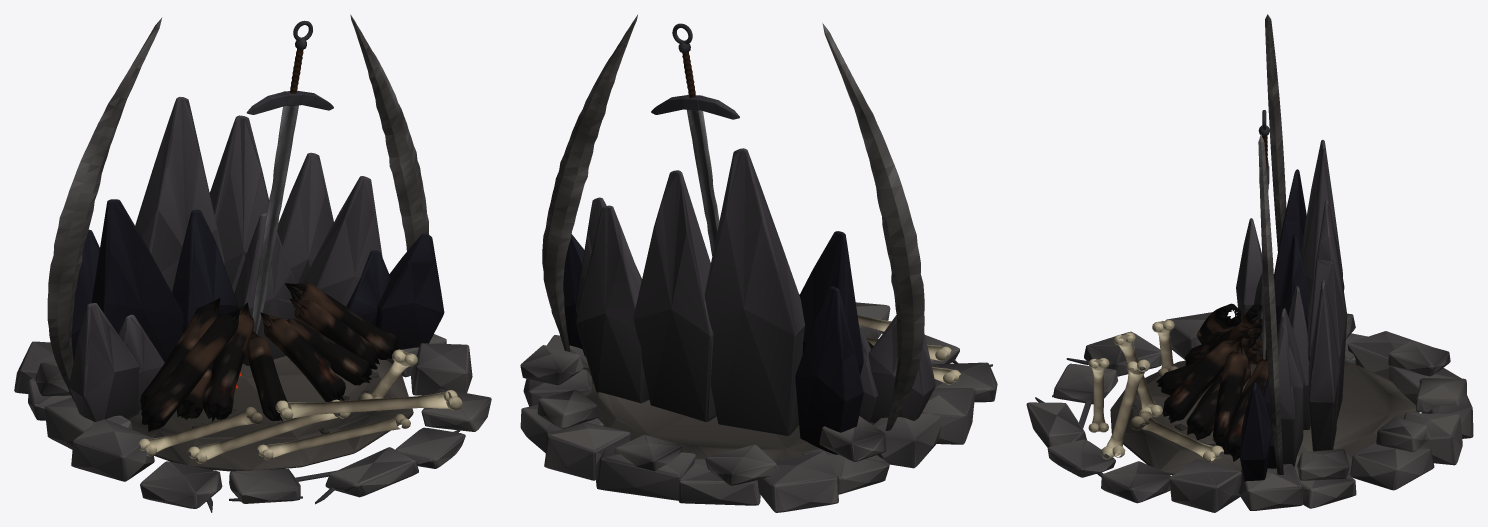
Rendered from apramaya_bonfire_v2.glb.
3 renders of one model, left to right at view 1: azimuth 30°, elevation 25°; view 2: azimuth 150°, elevation 25°; view 3: azimuth 270°, elevation 25°, orthographic. The views are drawn at different scales.
Parts seen in each view (by area): view 1: Bonfire_Base_AshBed, FlameSilhouette_Left, StoneShard_01, StoneShard_02, StoneShard_06, StoneShard_03, StoneShard_07, StoneShard_05, FlameSilhouette_Right, StoneShard_12, StoneShard_04, CharredLog_09 (+30 smaller); view 2: StoneShard_01, StoneShard_03, StoneShard_12, FlameSilhouette_Left, StoneShard_11, FlameSilhouette_Right, Bonfire_Base_AshBed, Bonfire_Base_Stone_11, StoneShard_02, StoneShard_06, Bonfire_Base_Stone_13, Bonfire_Base_Stone_14 (+18 smaller); view 3: Bonfire_Base_AshBed, StoneShard_12, FlameSilhouette_Right, StoneShard_03, StoneShard_05, Bonfire_Base_Stone_02, Bonfire_Base_Stone_15, FlameSilhouette_Left, StoneShard_01, StoneShard_07, CharredLog_07, Bonfire_Base_Stone_01 (+30 smaller).
Part boxes in pixels (box(x1,y1,x2,y2)): Bonfire_Base_AshBed: box(128, 356, 413, 471); FlameSilhouette_Left: box(47, 17, 162, 401); StoneShard_01: box(135, 97, 224, 292); StoneShard_02: box(91, 199, 183, 362); StoneShard_06: box(69, 303, 139, 421); StoneShard_03: box(209, 115, 268, 293); StoneShard_07: box(375, 234, 444, 349); StoneShard_05: box(304, 176, 382, 325); FlameSilhouette_Right: box(350, 14, 429, 251); StoneShard_12: box(277, 152, 333, 324); StoneShard_04: box(172, 209, 237, 333); CharredLog_09: box(141, 307, 240, 432); StoneShard_01: box(704, 148, 804, 435); StoneShard_03: box(633, 170, 716, 421); StoneShard_12: box(576, 205, 649, 403); FlameSilhouette_Left: box(822, 23, 924, 430); StoneShard_11: box(795, 286, 863, 454); FlameSilhouette_Right: box(542, 14, 637, 351); Bonfire_Base_AshBed: box(586, 377, 874, 460); Bonfire_Base_Stone_11: box(757, 451, 838, 512); StoneShard_02: box(799, 231, 863, 375); StoneShard_06: box(868, 315, 935, 423); Bonfire_Base_Stone_13: box(595, 446, 695, 500); Bonfire_Base_Stone_14: box(544, 422, 630, 480); Bonfire_Base_AshBed: box(1110, 351, 1419, 475); StoneShard_12: box(1308, 280, 1339, 451); FlameSilhouette_Right: box(1258, 134, 1283, 474); StoneShard_03: box(1308, 200, 1347, 420); StoneShard_05: box(1277, 308, 1304, 466); Bonfire_Base_Stone_02: box(1169, 458, 1241, 512); Bonfire_Base_Stone_15: box(1350, 442, 1434, 490); FlameSilhouette_Left: box(1265, 14, 1286, 250); StoneShard_01: box(1300, 140, 1343, 311); StoneShard_07: box(1240, 382, 1271, 481); CharredLog_07: box(1162, 335, 1242, 422); Bonfire_Base_Stone_01: box(1239, 464, 1302, 510).
Bounding box in the file's own units: 2.52 × 2.47 × 2.67.
